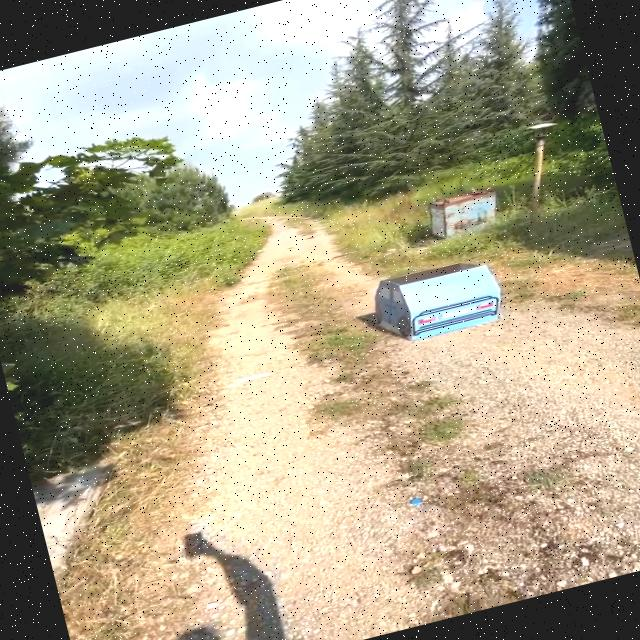blue_car: (341, 240, 523, 366)
